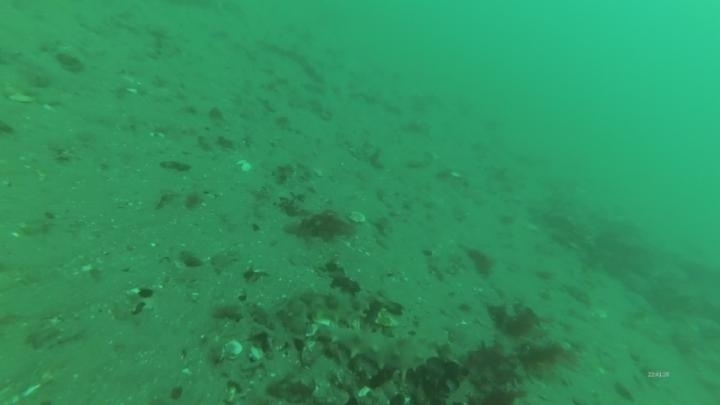holothurian: (309, 315, 458, 378), (275, 284, 373, 337)
